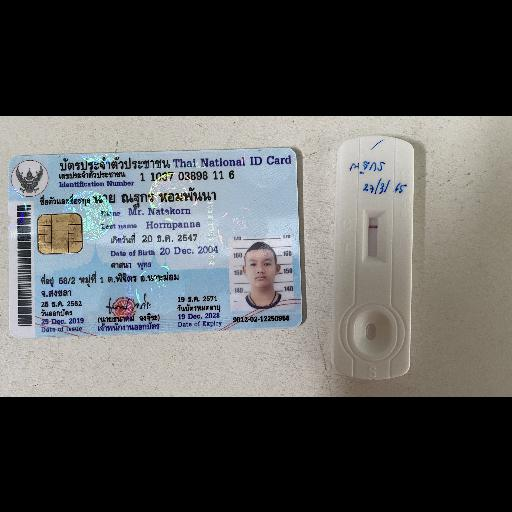Neg: (333, 136, 416, 385)
